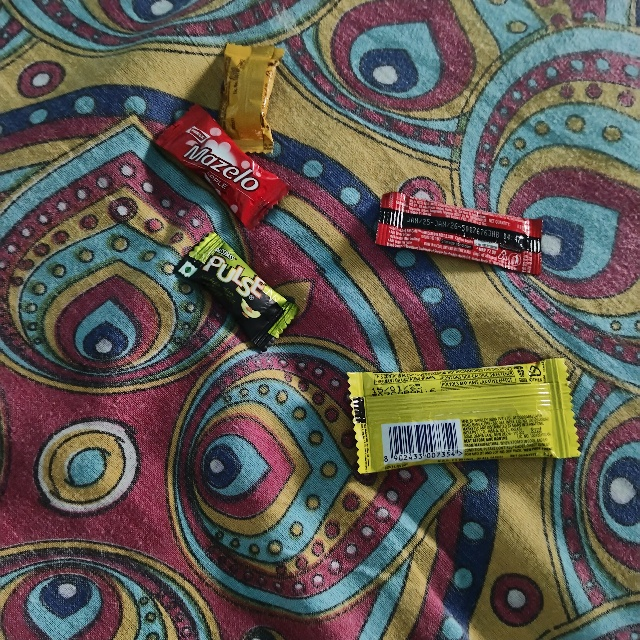Alpenlibe Creamfills: (222, 45, 278, 148)
Mazelo: (150, 136, 218, 274)
Nescafe Coffee: (386, 193, 543, 255)
Orbit: (345, 377, 574, 467)
Pulse: (173, 271, 231, 386)
